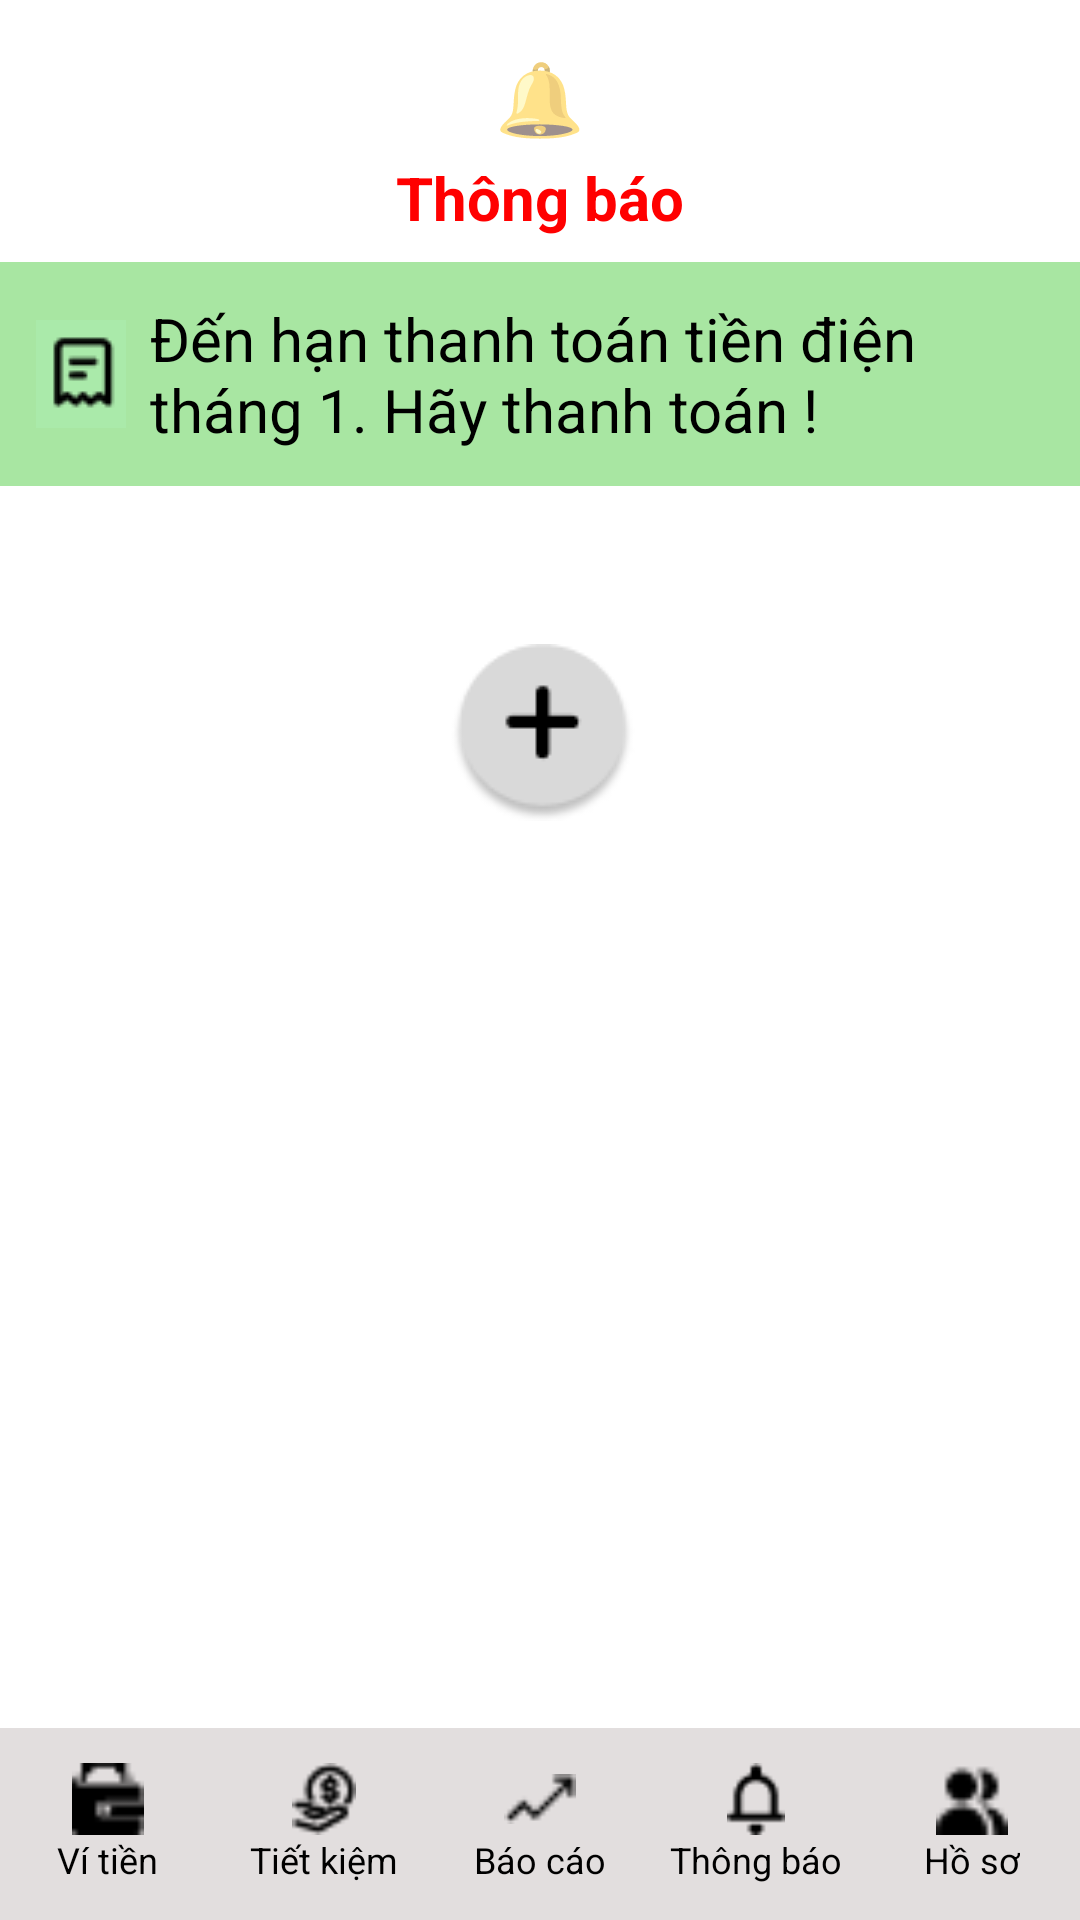

Icons on this 1080 x 1920 Android screen, each with its box as (x1, y1, x2, y2):
Nút thêm: (459, 644, 626, 815)
